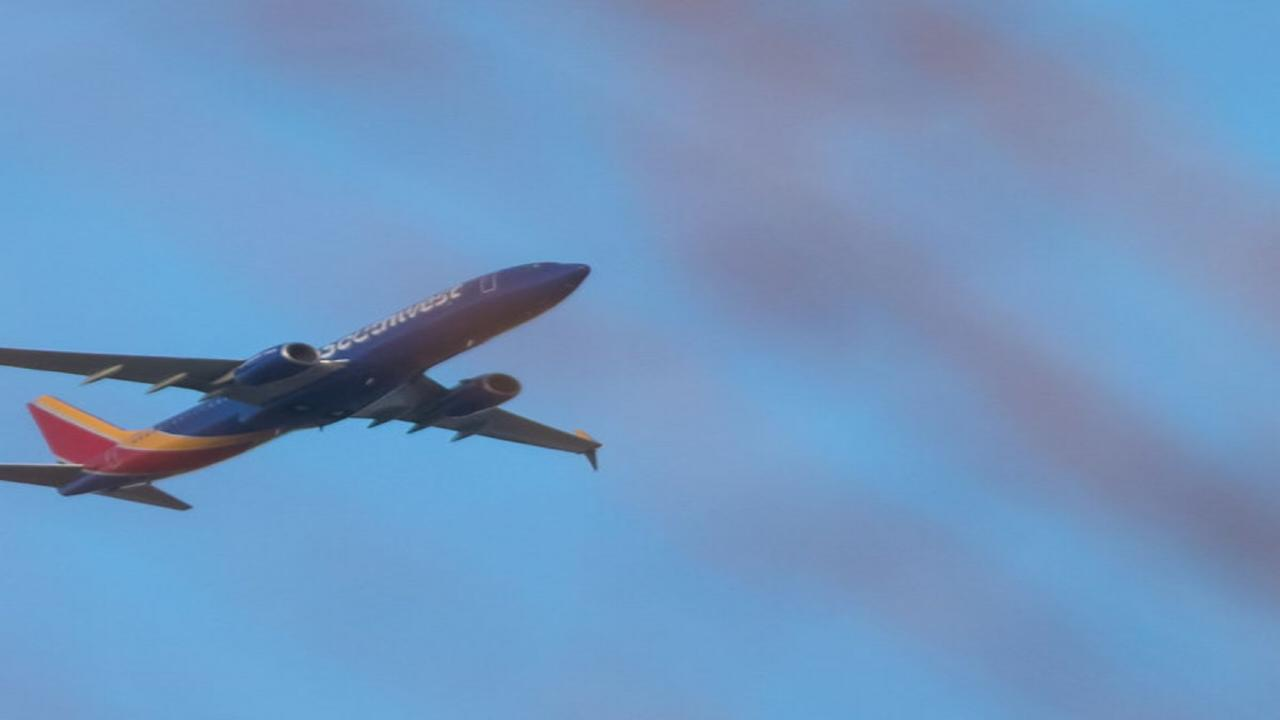Airplane: (0, 250, 619, 519)
